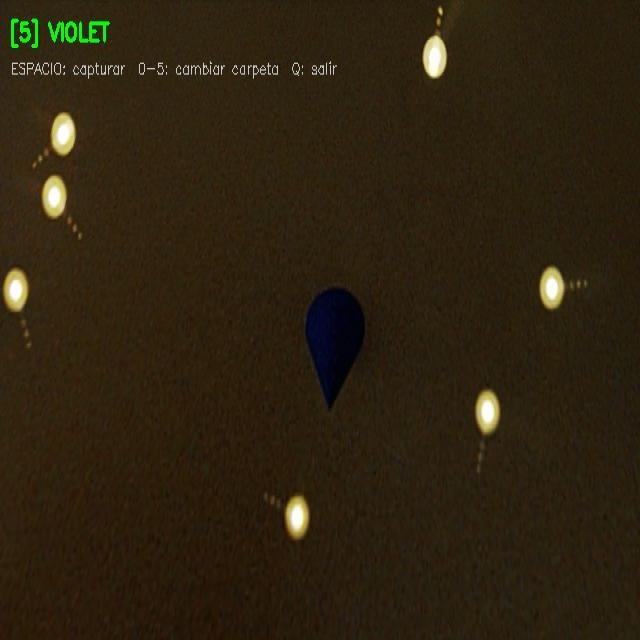violet: (306, 287, 364, 409)
